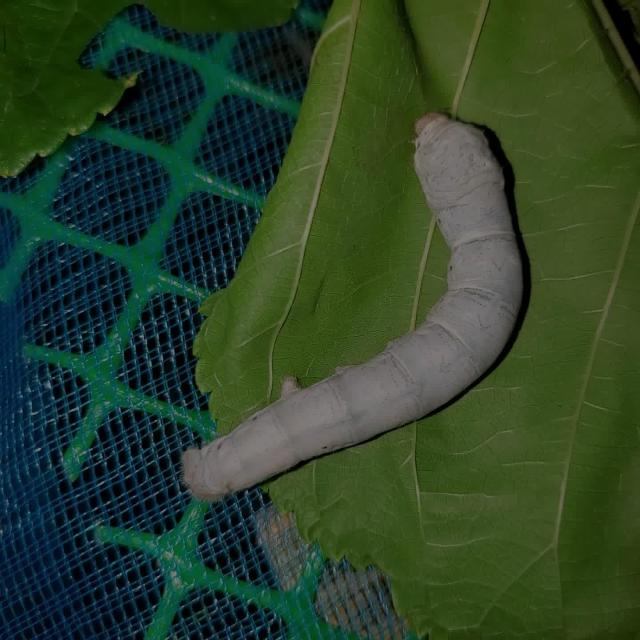Healthy: (168, 107, 536, 506)
